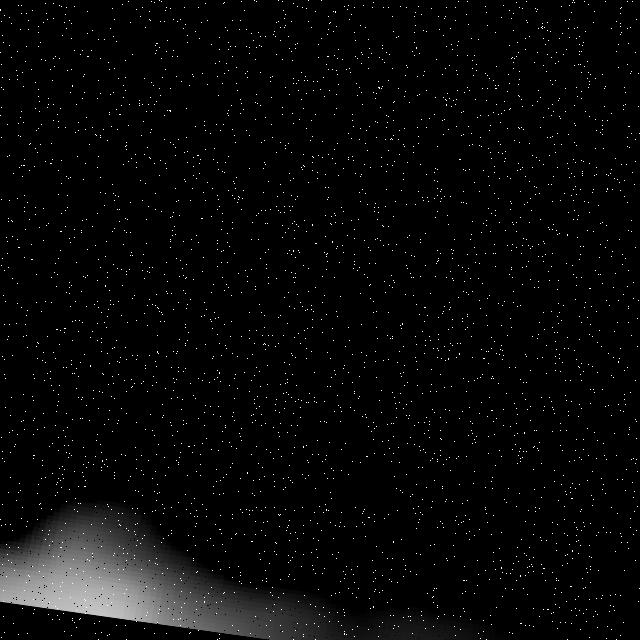person: (1, 458, 463, 640)
